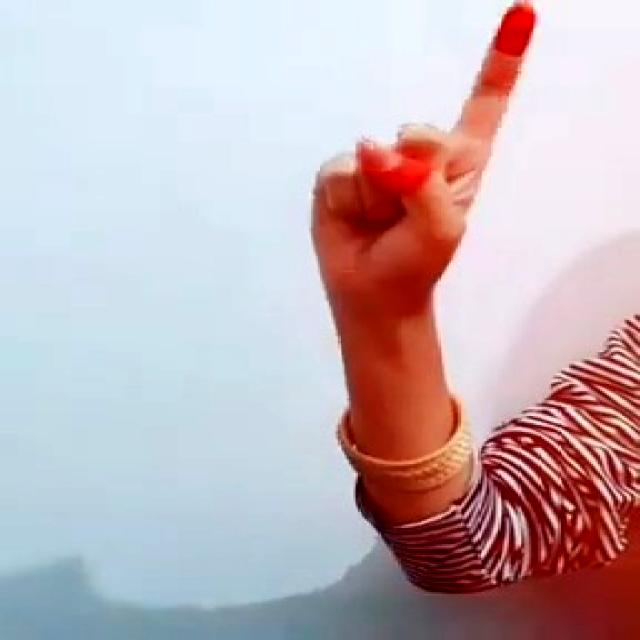Suchi: (265, 0, 567, 329)
bangle: (337, 386, 498, 499)
